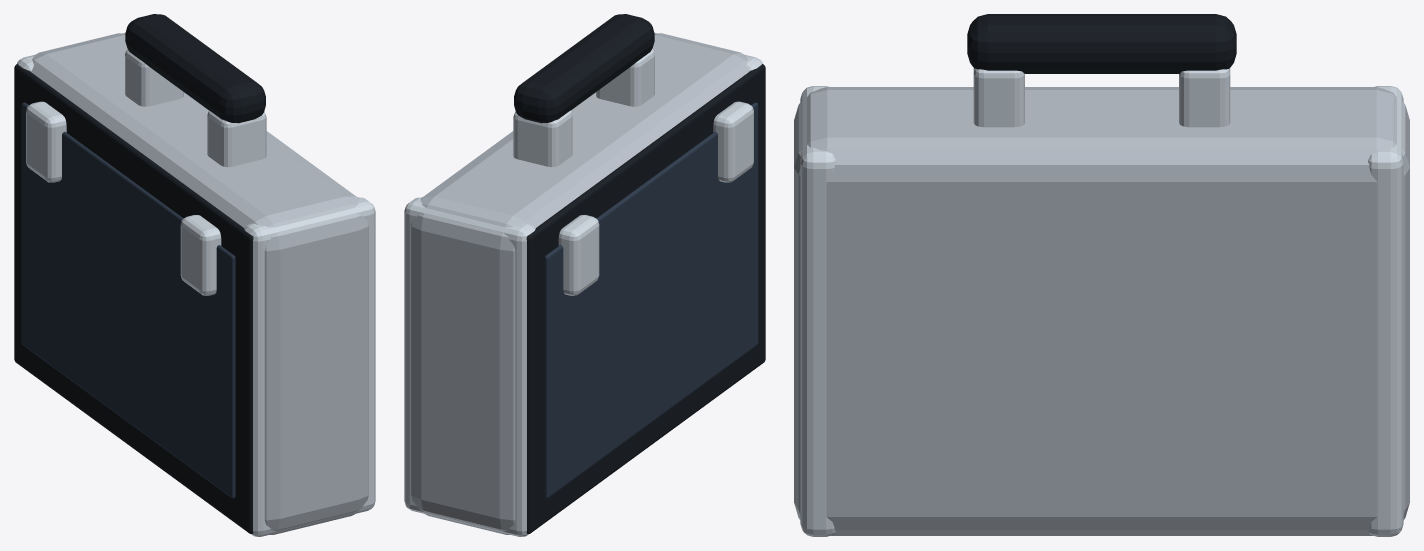
Rendered from SM_BriefcaseBody.fbx.
3 views of the same model, side by side, from view 1: azimuth 30°, elevation 25°; view 2: azimuth 150°, elevation 25°; view 3: azimuth 270°, elevation 25° (orthographic). The views are drawn at different scales.
Parts seen in each view (by area): view 1: SM_BriefcaseBody; view 2: SM_BriefcaseBody; view 3: SM_BriefcaseBody.
Boxes of the visible parts, x1,y1,x2,y2 form: SM_BriefcaseBody: [14, 14, 375, 536]; SM_BriefcaseBody: [404, 14, 765, 536]; SM_BriefcaseBody: [794, 14, 1409, 536].
Bounding box in the file's own units: 16.25 × 48 × 42.
